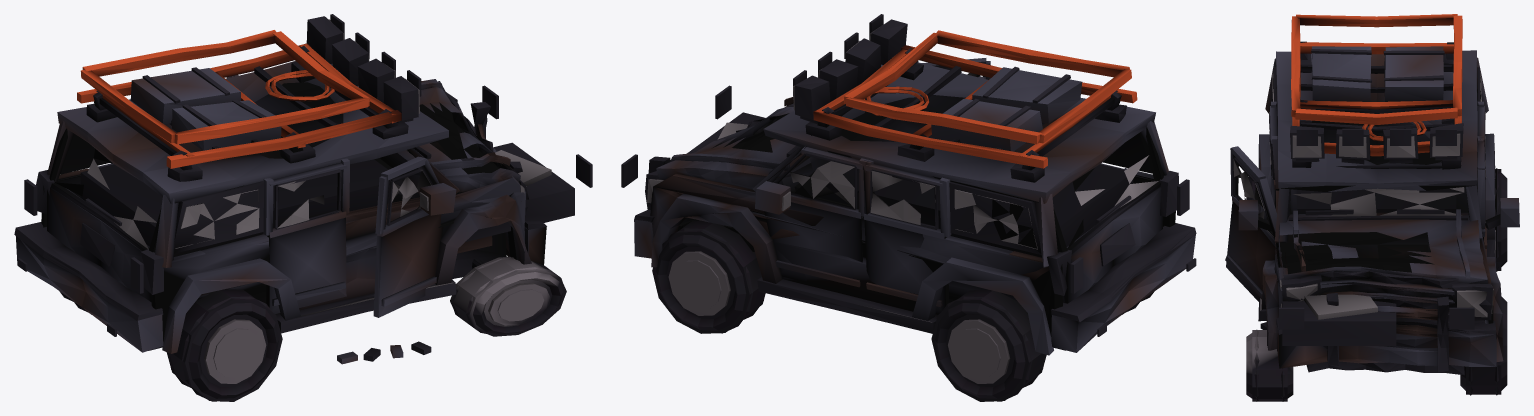
The model's file is veh.suv-dark.wrecked.glb.
3 renders of one model, left to right at view 1: azimuth 30°, elevation 25°; view 2: azimuth 150°, elevation 25°; view 3: azimuth 270°, elevation 25°, orthographic. The views are drawn at different scales.
Visible parts, largest first — view 1: body, wheelRL, wheelFL; view 2: body, wheelFR, wheelRR; view 3: body, wheelFL, wheelFR, wheelRR.
Part boxes in pixels (<box>): body: <box>14,14,592,364</box>; wheelRL: <box>166,288,282,401</box>; wheelFL: <box>450,256,566,336</box>; body: <box>621,14,1196,355</box>; wheelFR: <box>652,219,765,333</box>; wheelRR: <box>931,289,1046,401</box>; body: <box>1225,14,1519,375</box>; wheelFL: <box>1246,329,1293,401</box>; wheelFR: <box>1460,296,1507,395</box>; wheelRR: <box>1495,168,1507,271</box>.
Size of the model in its own units: 4.77 by 2.53 by 2.84.
